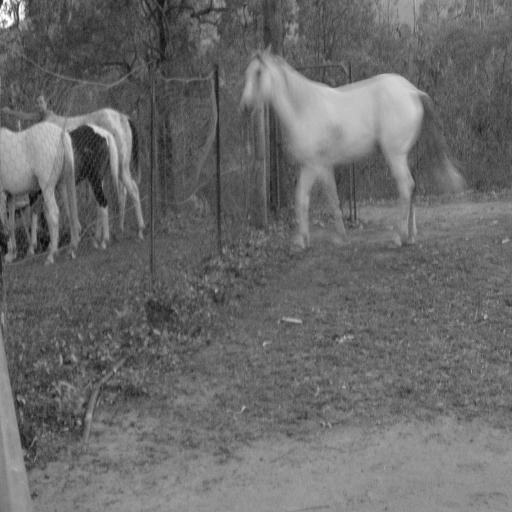horse: (240, 40, 472, 251), (38, 107, 146, 244), (28, 118, 122, 258), (0, 120, 81, 268)
